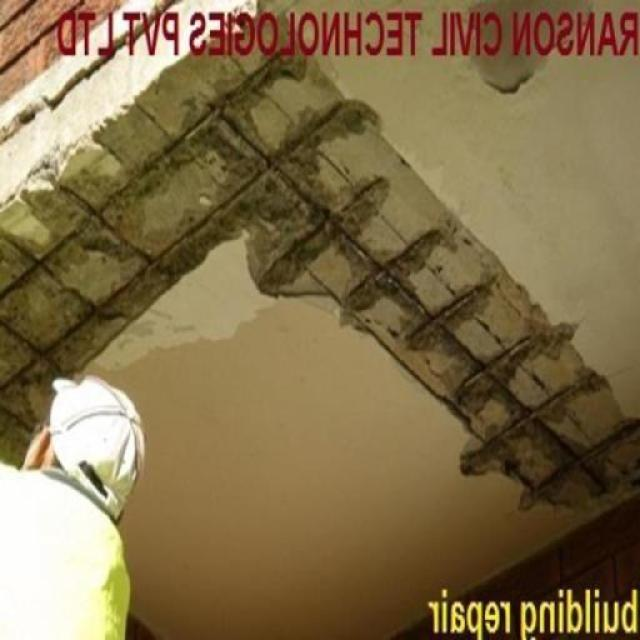D0w0: (0, 56, 639, 506)
